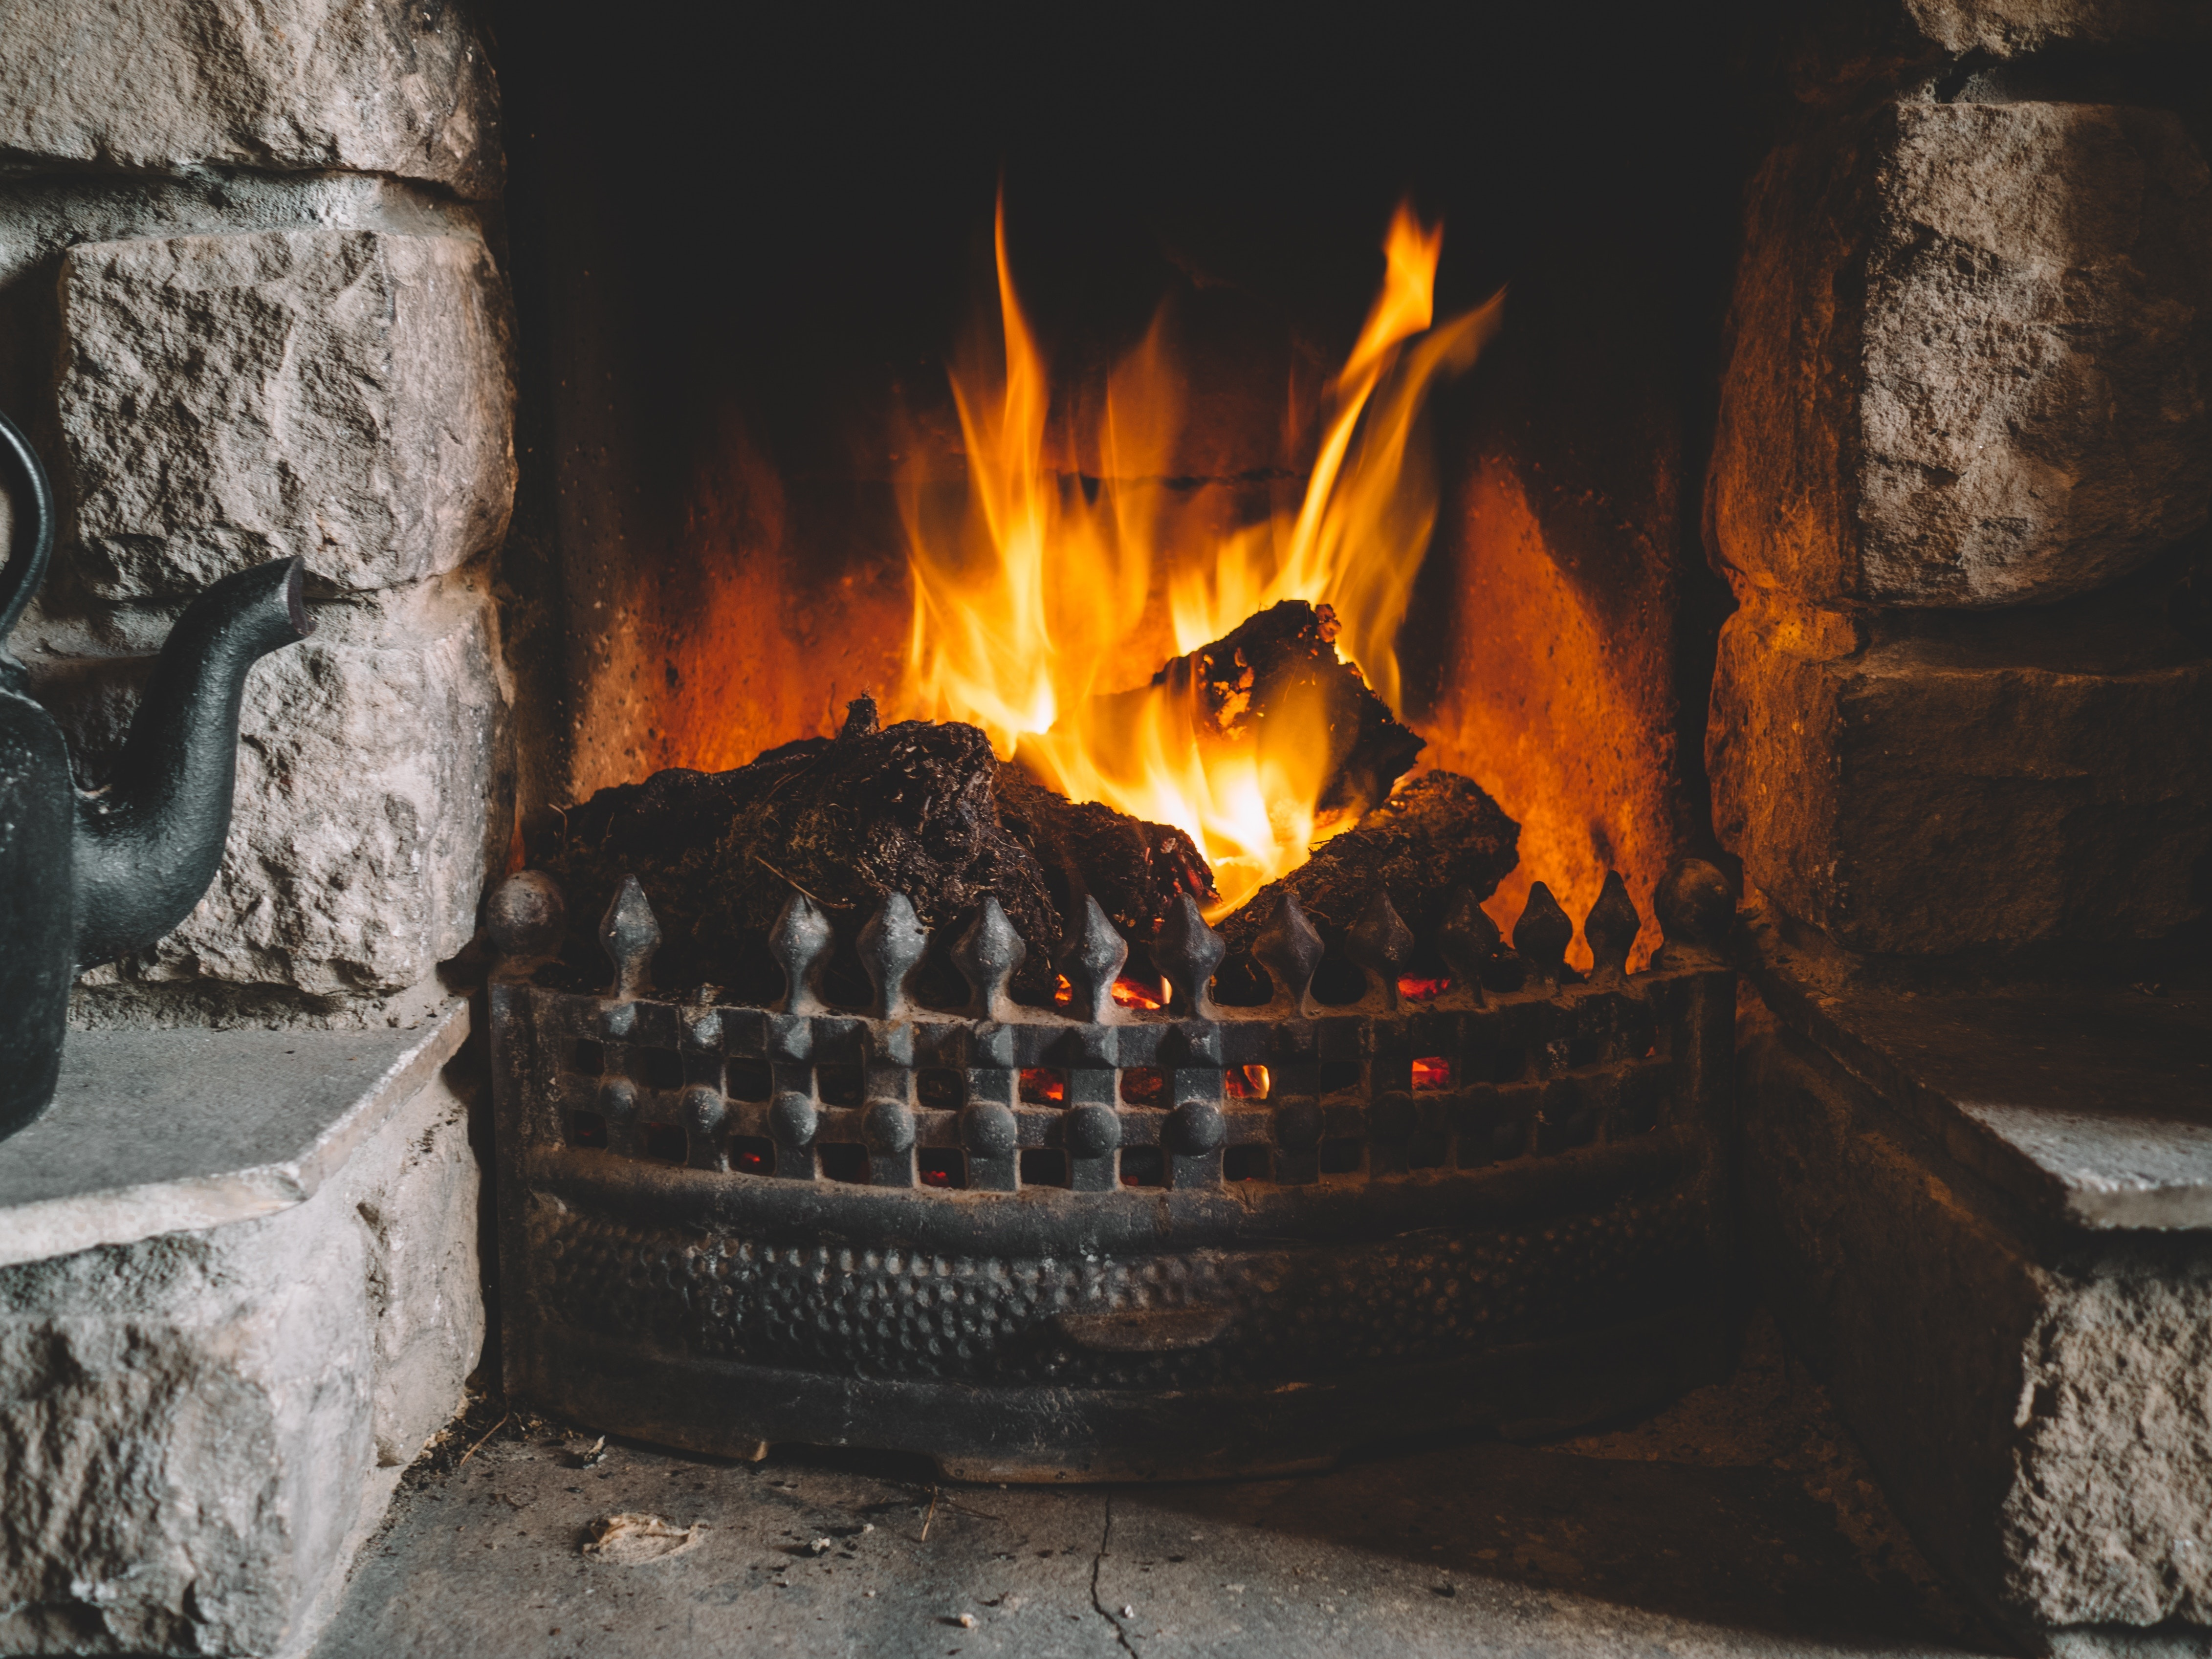fire: (558, 195, 1956, 1067)
